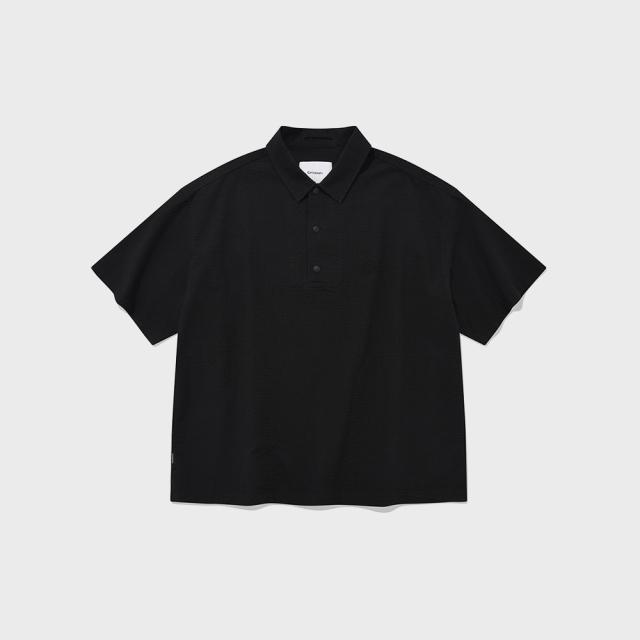Blouse_deep: (71, 130, 551, 502)
